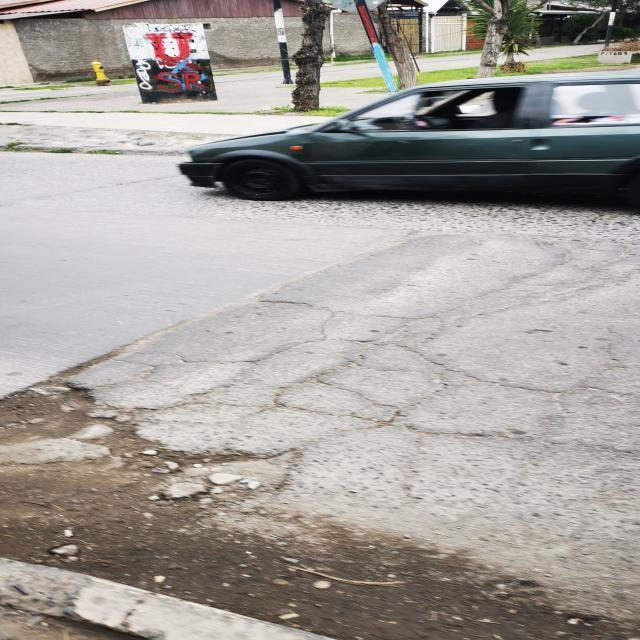BACHE: (0, 375, 639, 639)
PARCHE: (265, 235, 551, 316)
PIEL DE COCODRILO: (52, 238, 639, 508)
